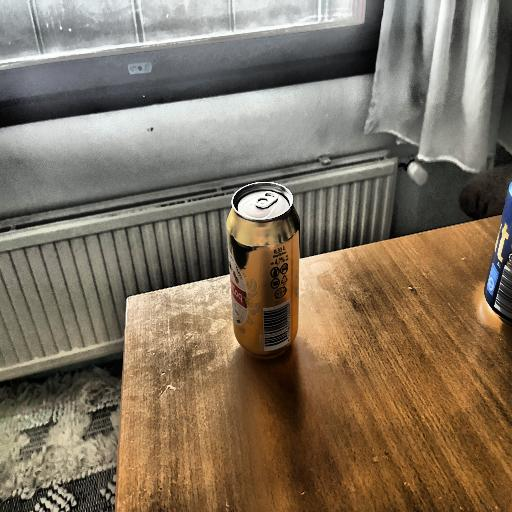A_LeCoq: (222, 177, 311, 354)
koti: (483, 170, 512, 338)
